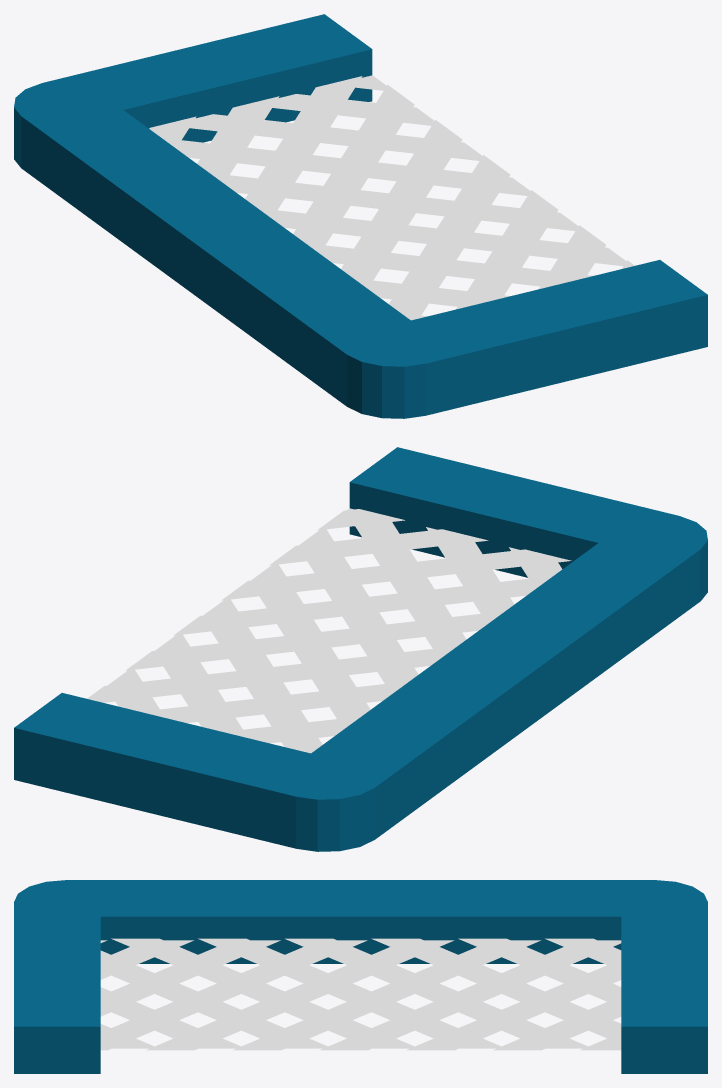
Rendered from G02_025_Floor_Mesh_W.fbx.
3 views of the same model, one above another, from view 1: azimuth 30°, elevation 25°; view 2: azimuth 150°, elevation 25°; view 3: azimuth 270°, elevation 25° (orthographic). The views are drawn at different scales.
Visible parts, largest first — view 1: 013_Mesh_W_B, 平面.051; view 2: 013_Mesh_W_B, 平面.051; view 3: 013_Mesh_W_B, 平面.051.
Boxes of the visible parts, bbox=[...] form: 013_Mesh_W_B: bbox=[14, 14, 707, 418]; 平面.051: bbox=[149, 75, 634, 320]; 013_Mesh_W_B: bbox=[14, 447, 707, 851]; 平面.051: bbox=[87, 508, 571, 753]; 013_Mesh_W_B: bbox=[14, 880, 707, 1073]; 平面.051: bbox=[100, 938, 621, 1050].
Bounding box in the file's own units: 200 × 30 × 400.
